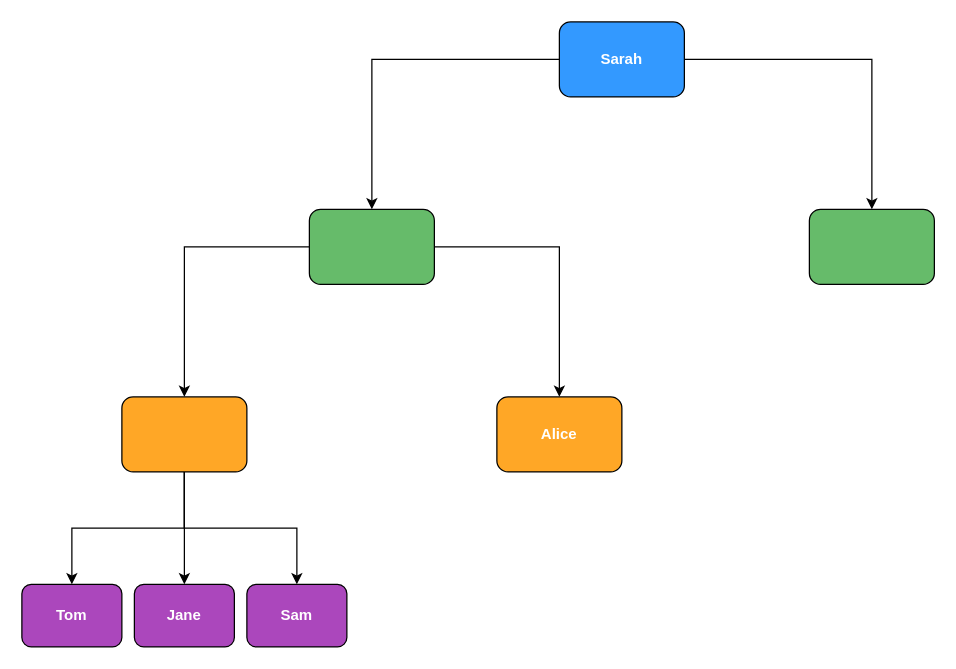
Some shapes in this 956 by 669 pixel diagram are drawn without their labels. The centre of each missing label's shape, as x and y in pixels:
Bob: [184,434]
Lisa: [871,246]
Mike: [371,246]
